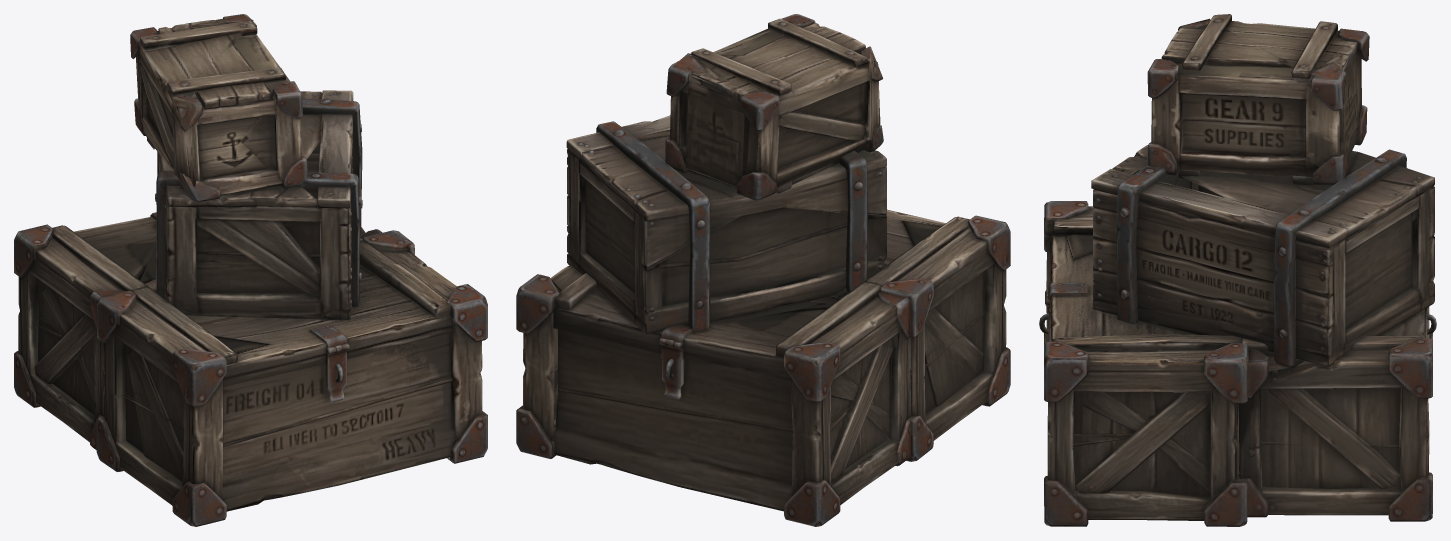
Rendered from SM_WoodenCargoCrates.fbx.
3 renders of one model, left to right at view 1: azimuth 30°, elevation 25°; view 2: azimuth 150°, elevation 25°; view 3: azimuth 270°, elevation 25°, orthographic. The views are drawn at different scales.
Parts seen in each view (by area): view 1: tripo_08579062_43f0_45eb_98fd_2647c55c5363; view 2: tripo_08579062_43f0_45eb_98fd_2647c55c5363; view 3: tripo_08579062_43f0_45eb_98fd_2647c55c5363.
Boxes of the visible parts, x1,y1,x2,y2 form: tripo_08579062_43f0_45eb_98fd_2647c55c5363: [14, 14, 487, 526]; tripo_08579062_43f0_45eb_98fd_2647c55c5363: [516, 14, 1010, 526]; tripo_08579062_43f0_45eb_98fd_2647c55c5363: [1039, 14, 1436, 526].
Size of the model in its own units: 0.8452 by 0.9995 by 0.9067.
Materials: 1 (1 with a texture image).
